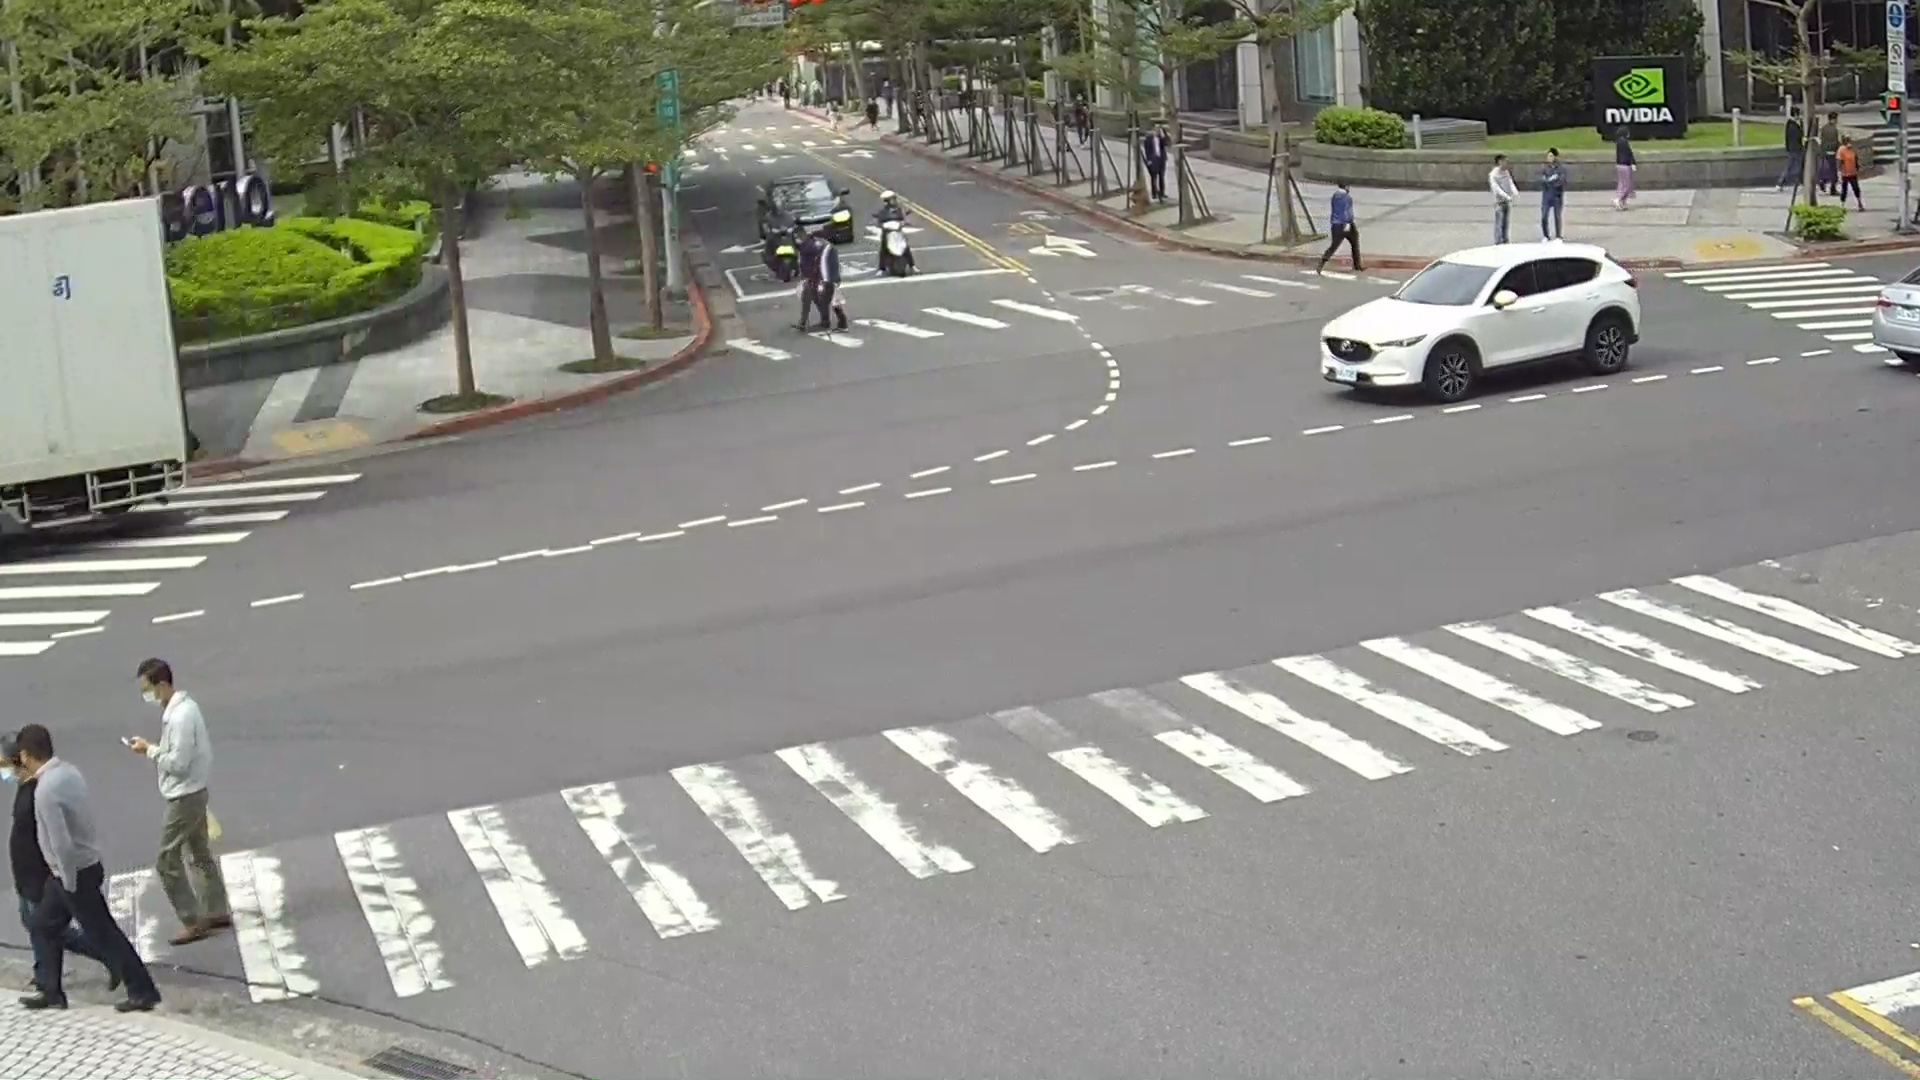bike: (874, 220, 918, 277), (761, 223, 802, 282)
pedestrian: (3, 728, 164, 1016), (116, 653, 230, 948), (792, 229, 843, 330), (1313, 179, 1364, 278), (1534, 145, 1569, 241), (1487, 154, 1518, 245), (1834, 136, 1866, 211), (1610, 124, 1638, 209), (1777, 111, 1806, 190), (1815, 111, 1844, 190), (1140, 126, 1165, 202), (767, 194, 793, 245), (874, 190, 906, 225)
vehicle: (1, 197, 195, 568), (1313, 238, 1645, 401), (1869, 229, 1920, 376), (757, 174, 846, 246)
